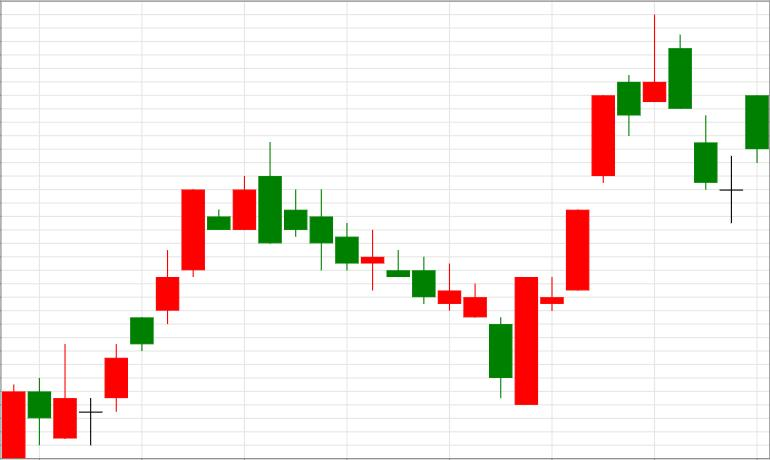bullish_engulfing_rise: (258, 142, 538, 405)
